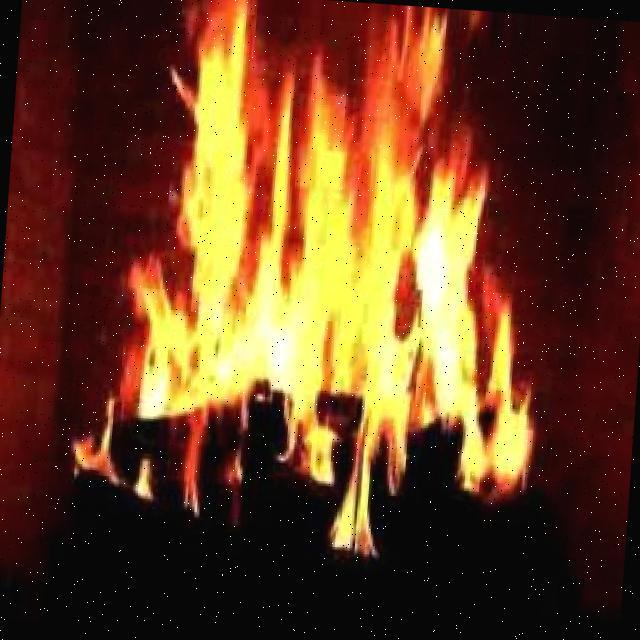Fire: (133, 49, 556, 478)
